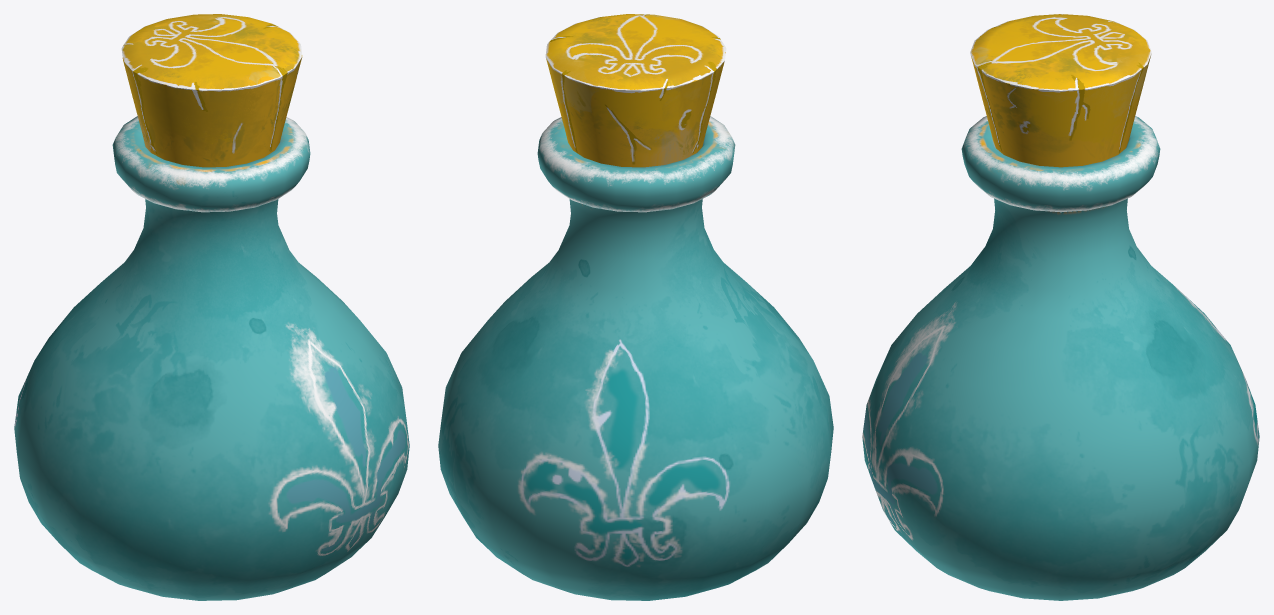
The model's file is bottle.obj.
The picture shows the model from 3 angles, left to right: view 1: azimuth 30°, elevation 25°; view 2: azimuth 150°, elevation 25°; view 3: azimuth 270°, elevation 25°; orthographic projection.
Visible parts, largest first — view 1: pSphere2_Mesh.042; view 2: pSphere2_Mesh.042; view 3: pSphere2_Mesh.042.
Boxes of the visible parts, <box> form: pSphere2_Mesh.042: <box>14,14,409,600</box>; pSphere2_Mesh.042: <box>438,14,833,600</box>; pSphere2_Mesh.042: <box>862,14,1259,600</box>.
Size of the model in its own units: 0.68 by 1 by 0.68.
